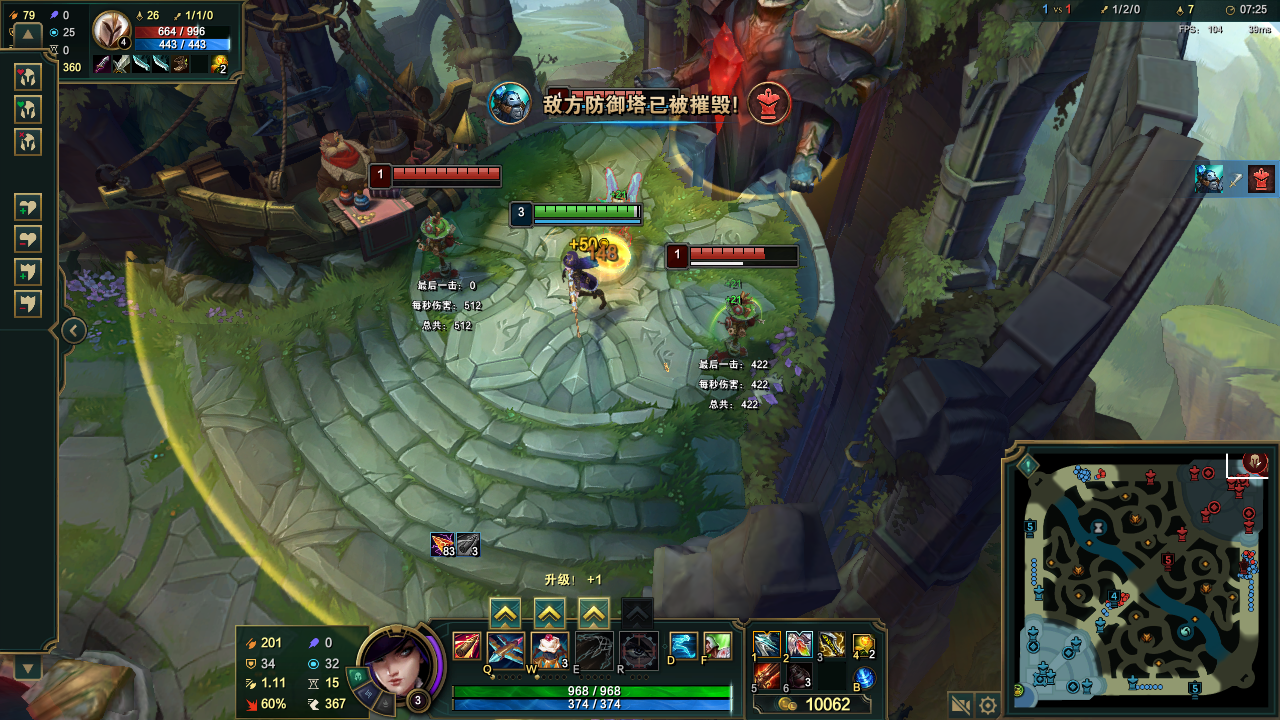DFYX: (393, 165, 505, 178), (692, 246, 797, 259), (572, 89, 675, 97)
